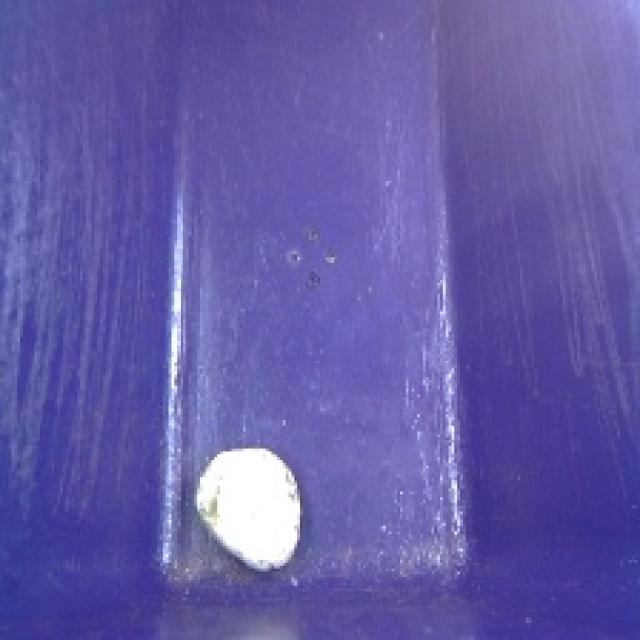cobbles: (188, 438, 308, 582)
